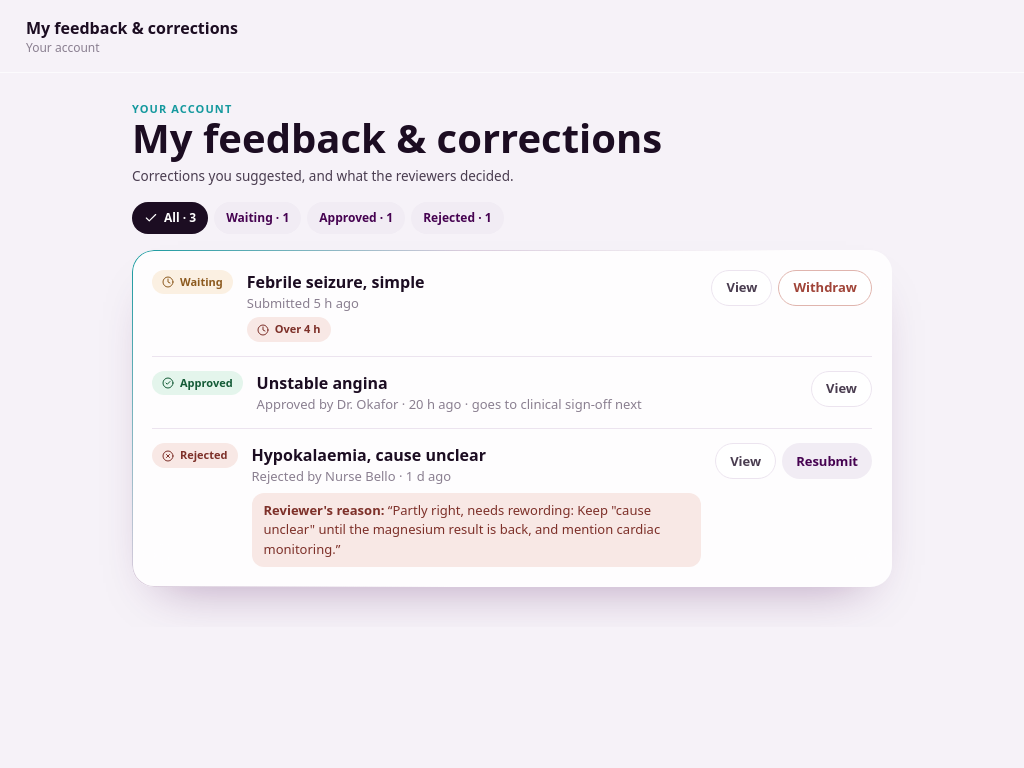
Test: MyCorrectionsView › shows what changed when you open one
This screenshot has width=1024, height=768.
What coordinates should you click on to do the following:
click the button with aria-label "View: Febrile seizure, simple"
I would click on:
 (742, 288)
Its box is [712,270,772,306].
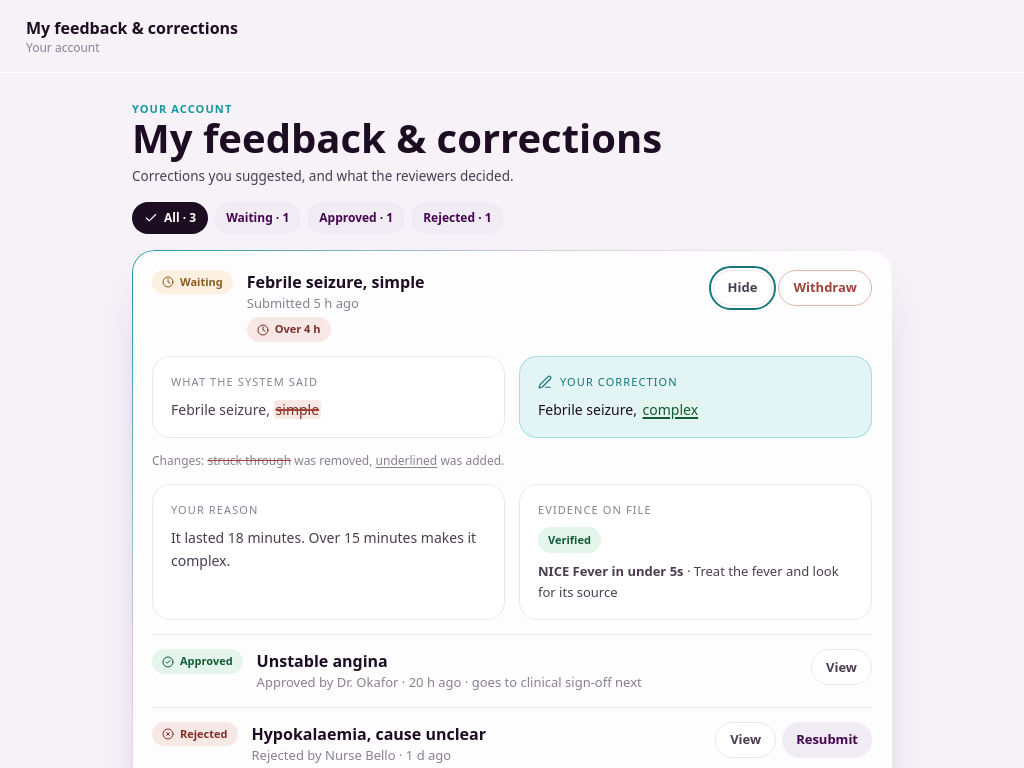
Expected: the button named "View: Febrile seizure, simple" is expanded, [713,270,772,306]
Expected: the element "Your reason" is shown, [152,484,505,620]
